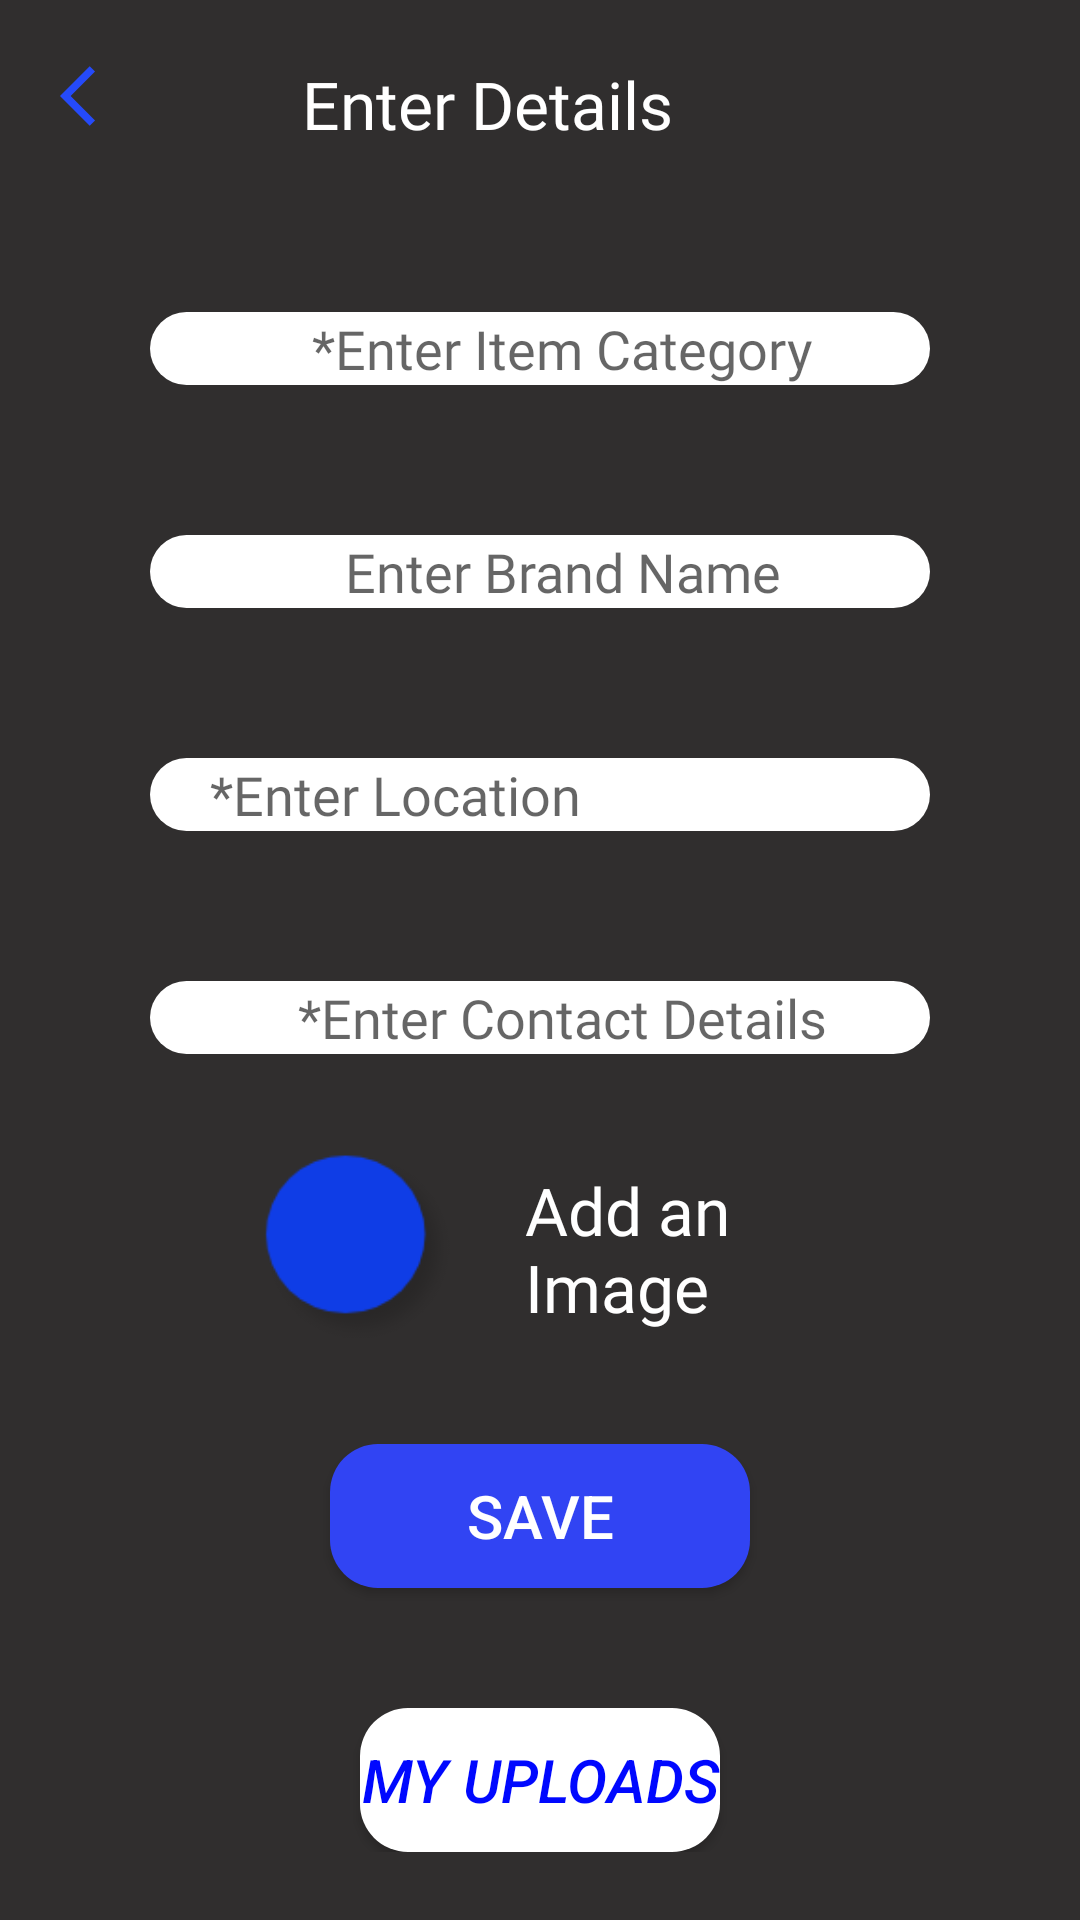

Where icons sit on this 1080*1920 app screen, as [left=x1, top=y1, right=x2, bottom=y2]:
goback: [left=60, top=66, right=95, bottom=126]
